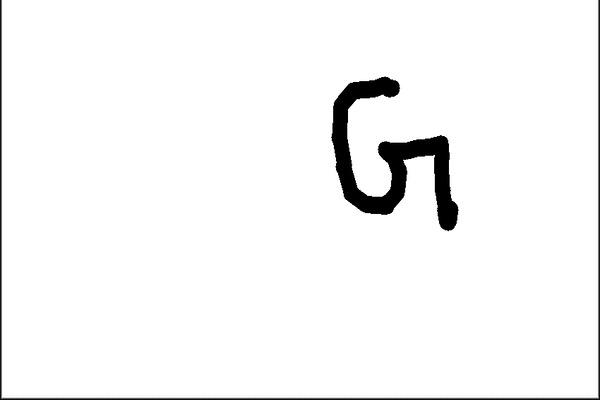G: (328, 73, 463, 235)
